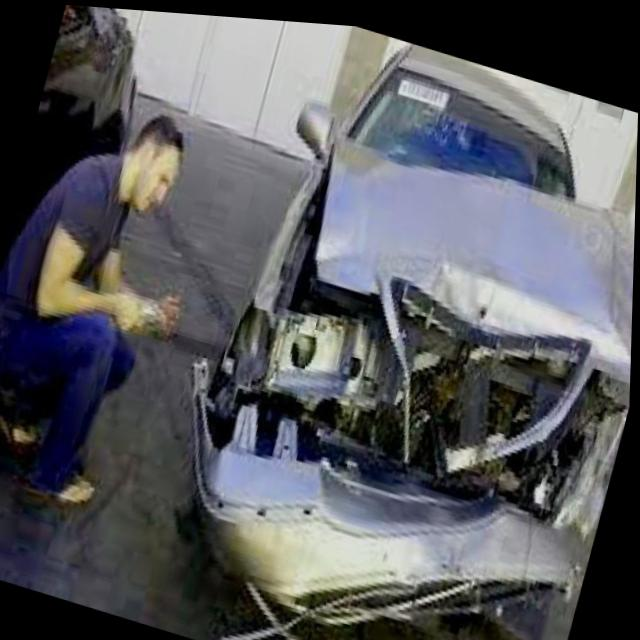Car-Damage: (132, 94, 638, 640)
